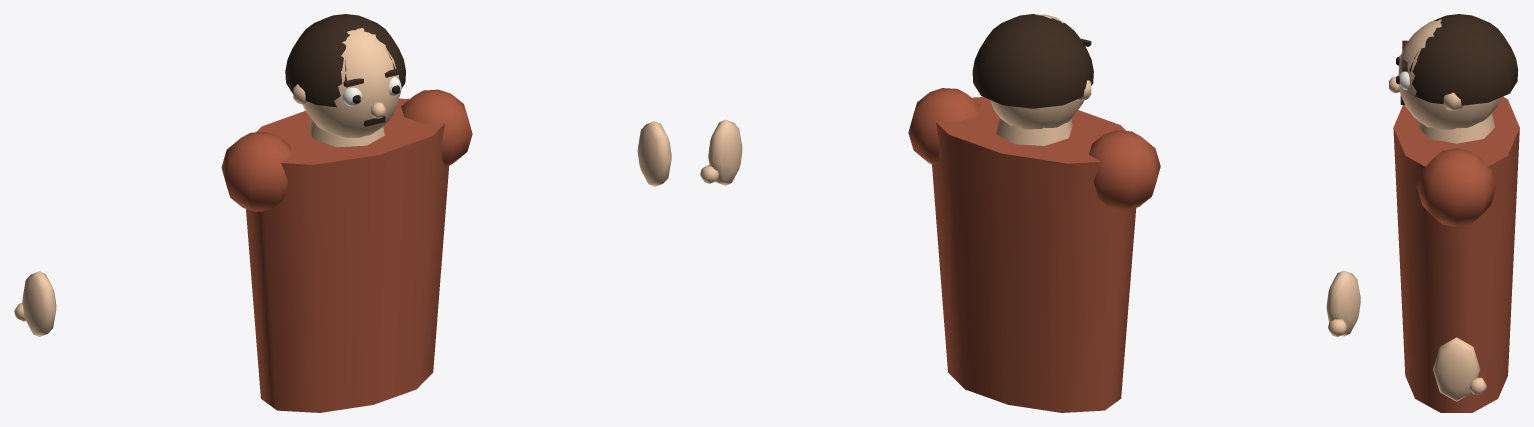
Rendered from avatar-amber.glb.
The picture shows the model from 3 angles, left to right: view 1: azimuth 30°, elevation 25°; view 2: azimuth 150°, elevation 25°; view 3: azimuth 270°, elevation 25°; orthographic projection. The views are drawn at different scales.
Visible parts, largest first — view 1: Torso, Hair, Skull, ShoulderR, ShoulderL, HandL, HandR, Collar; view 2: Torso, Hair, ShoulderR, ShoulderL, Skull, HandL, HandR, Collar; view 3: Torso, Hair, ShoulderL, Skull, HandL, Collar, EarL, HandL_Thumb, EyeL, Nose.
Boxes of the visible parts, bbox=[...] form: Torso: bbox=[246, 98, 449, 412]; Hair: bbox=[285, 14, 405, 107]; Skull: bbox=[303, 28, 400, 137]; ShoulderR: bbox=[221, 132, 292, 211]; ShoulderL: bbox=[401, 89, 472, 166]; HandL: bbox=[637, 121, 671, 186]; HandR: bbox=[22, 271, 56, 336]; Collar: bbox=[309, 118, 384, 147]; Torso: bbox=[932, 97, 1136, 412]; Hair: bbox=[972, 14, 1093, 108]; ShoulderR: bbox=[1089, 130, 1160, 210]; ShoulderL: bbox=[908, 88, 980, 164]; Skull: bbox=[990, 14, 1083, 129]; HandL: bbox=[708, 119, 742, 185]; HandR: bbox=[1326, 270, 1360, 336]; Collar: bbox=[996, 118, 1072, 145]; Torso: bbox=[1393, 96, 1519, 412]; Hair: bbox=[1409, 14, 1518, 105]; ShoulderL: bbox=[1417, 148, 1495, 226]; Skull: bbox=[1398, 19, 1500, 129]; HandL: bbox=[1433, 337, 1480, 401]; Collar: bbox=[1418, 113, 1494, 143]; EarL: bbox=[1443, 92, 1463, 111]; HandL_Thumb: bbox=[1469, 377, 1486, 394]; EyeL: bbox=[1399, 71, 1409, 90]; Nose: bbox=[1389, 76, 1399, 92].
Bounding box in the file's own units: 1.37 × 0.746 × 0.2482.
